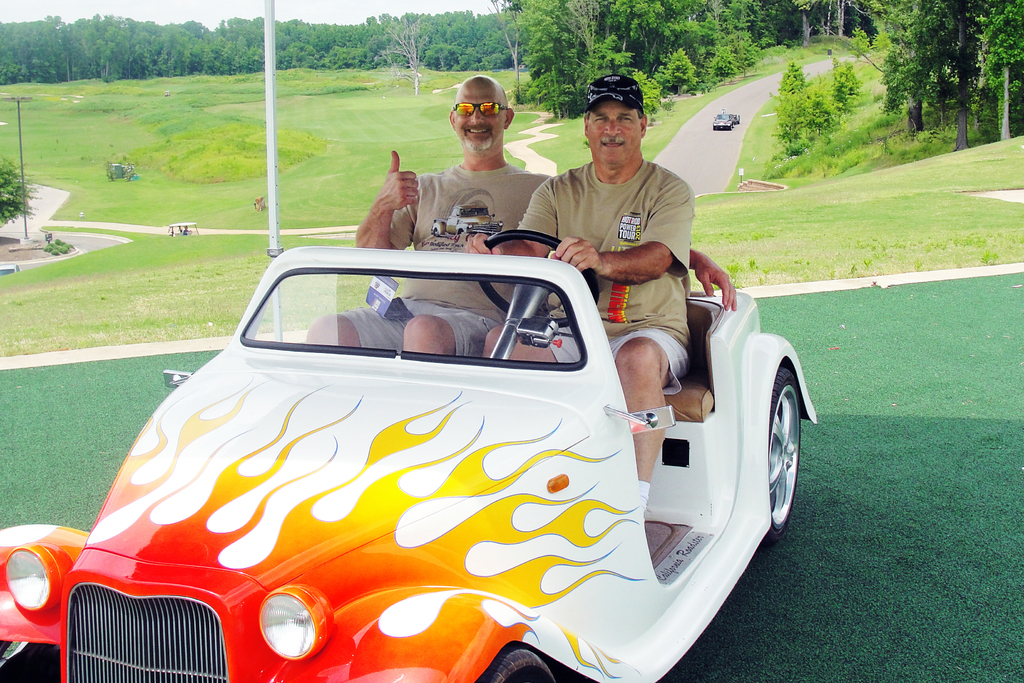Car: (0, 220, 821, 682), (711, 110, 744, 131)
